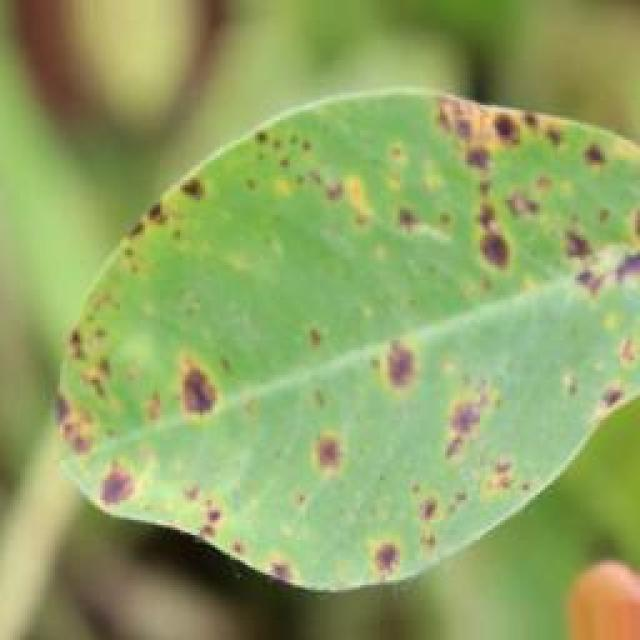Yellowish: (0, 65, 640, 583)
